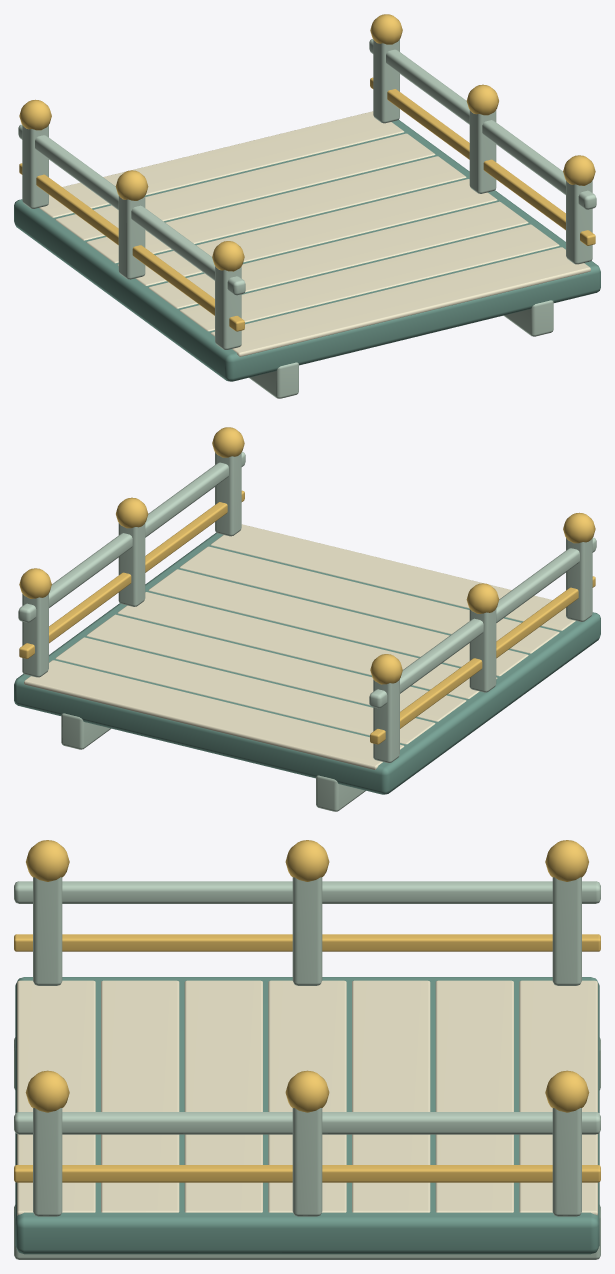
Rendered from garden_bridge.glb.
3 renders of one model, top to bottom at view 1: azimuth 30°, elevation 25°; view 2: azimuth 150°, elevation 25°; view 3: azimuth 270°, elevation 25°, orthographic. The views are drawn at different scales.
Visible parts, largest first — view 1: Deck, DeckStone, DeckStone.001, DeckStone.002, DeckStone.005, DeckStone.004, DeckStone.006, DeckStone.003, Handrail, Handrail.001, LowerRail.001, LowerRail (+14 smaller); view 2: Deck, DeckStone.006, DeckStone.005, DeckStone.004, DeckStone.001, DeckStone.002, DeckStone, DeckStone.003, Handrail, Handrail.001, LowerRail.001, LowerRail (+14 smaller); view 3: Deck, DeckStone.001, DeckStone.005, DeckStone.002, DeckStone.004, DeckStone, DeckStone.006, DeckStone.003, Handrail, Handrail.001, LowerRail, LowerRail.001 (+13 smaller).
Boxes of the visible parts, x1,y1,x2,y2 form: Deck: (14,119,600,381); DeckStone: (210,247,590,356); DeckStone.001: (179,224,559,331); DeckStone.002: (148,201,528,308); DeckStone.005: (55,133,435,240); DeckStone.004: (86,156,466,263); DeckStone.006: (39,111,404,217); DeckStone.003: (117,179,497,285); Handrail: (18,124,245,295); Handrail.001: (369,39,596,209); LowerRail.001: (370,77,595,245); LowerRail: (19,163,244,331); Deck: (14,532,600,794); DeckStone.006: (24,660,404,769); DeckStone.005: (55,637,435,744); DeckStone.004: (86,614,466,721); DeckStone.001: (179,546,559,653); DeckStone.002: (148,569,528,676); DeckStone: (210,524,575,630); DeckStone.003: (117,592,497,698); Handrail: (369,537,596,708); Handrail.001: (18,452,245,622); LowerRail.001: (19,490,244,658); LowerRail: (370,576,595,744); Deck: (15,977,599,1254); DeckStone.001: (101,980,179,1212); DeckStone.005: (435,980,513,1212); DeckStone.002: (184,980,262,1212); DeckStone.004: (352,980,430,1212); DeckStone: (17,980,95,1215); DeckStone.006: (519,980,597,1215); DeckStone.003: (268,980,346,1212); Handrail: (14,881,600,903); Handrail.001: (14,1112,600,1134); LowerRail: (14,934,600,951); LowerRail.001: (14,1165,600,1182).
Size of the model in its own units: 4.02 by 1.61 by 4.
